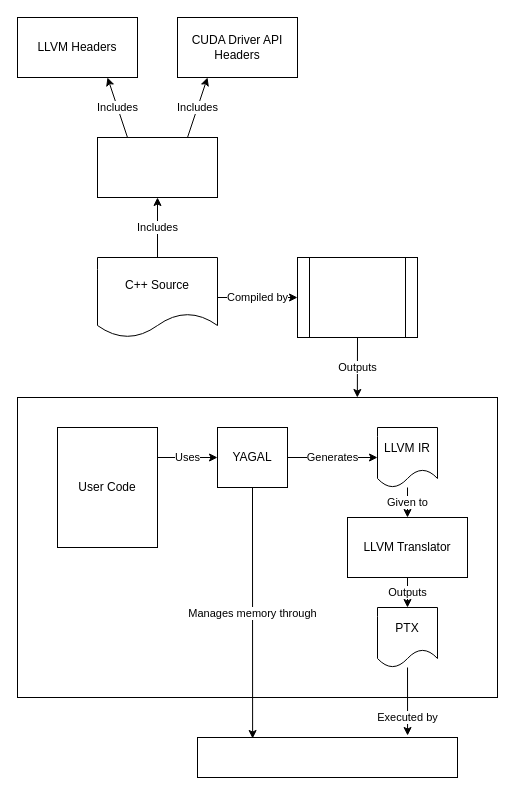
This 515x795 diagram has some shape labels left out. Each missing label, with the box of its shape:
Any Compiler: (296, 256, 418, 338)
CUDA Driver: (196, 736, 458, 778)
Executable: (16, 396, 498, 698)
YAGAL Headers: (96, 136, 218, 198)
